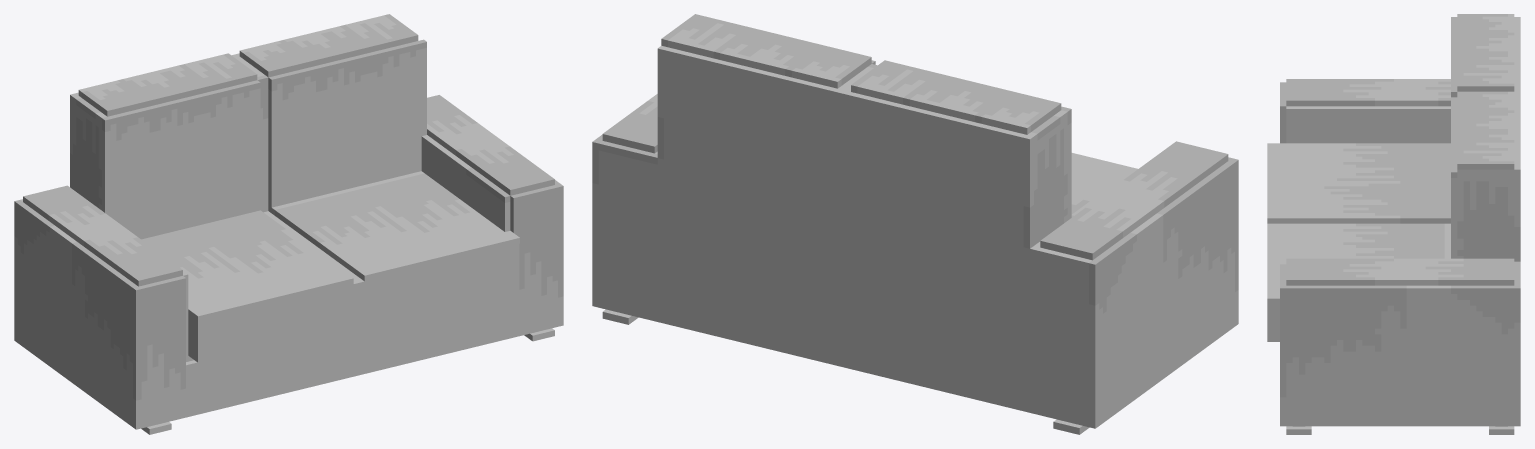
Rendered from Decor-31.obj.
The picture shows the model from 3 angles, left to right: view 1: azimuth 30°, elevation 25°; view 2: azimuth 150°, elevation 25°; view 3: azimuth 270°, elevation 25°; orthographic projection. The views are drawn at different scales.
Size of the model in its own units: 7.7 by 4.3 by 4.
Materials: 1 (1 with a texture image).
